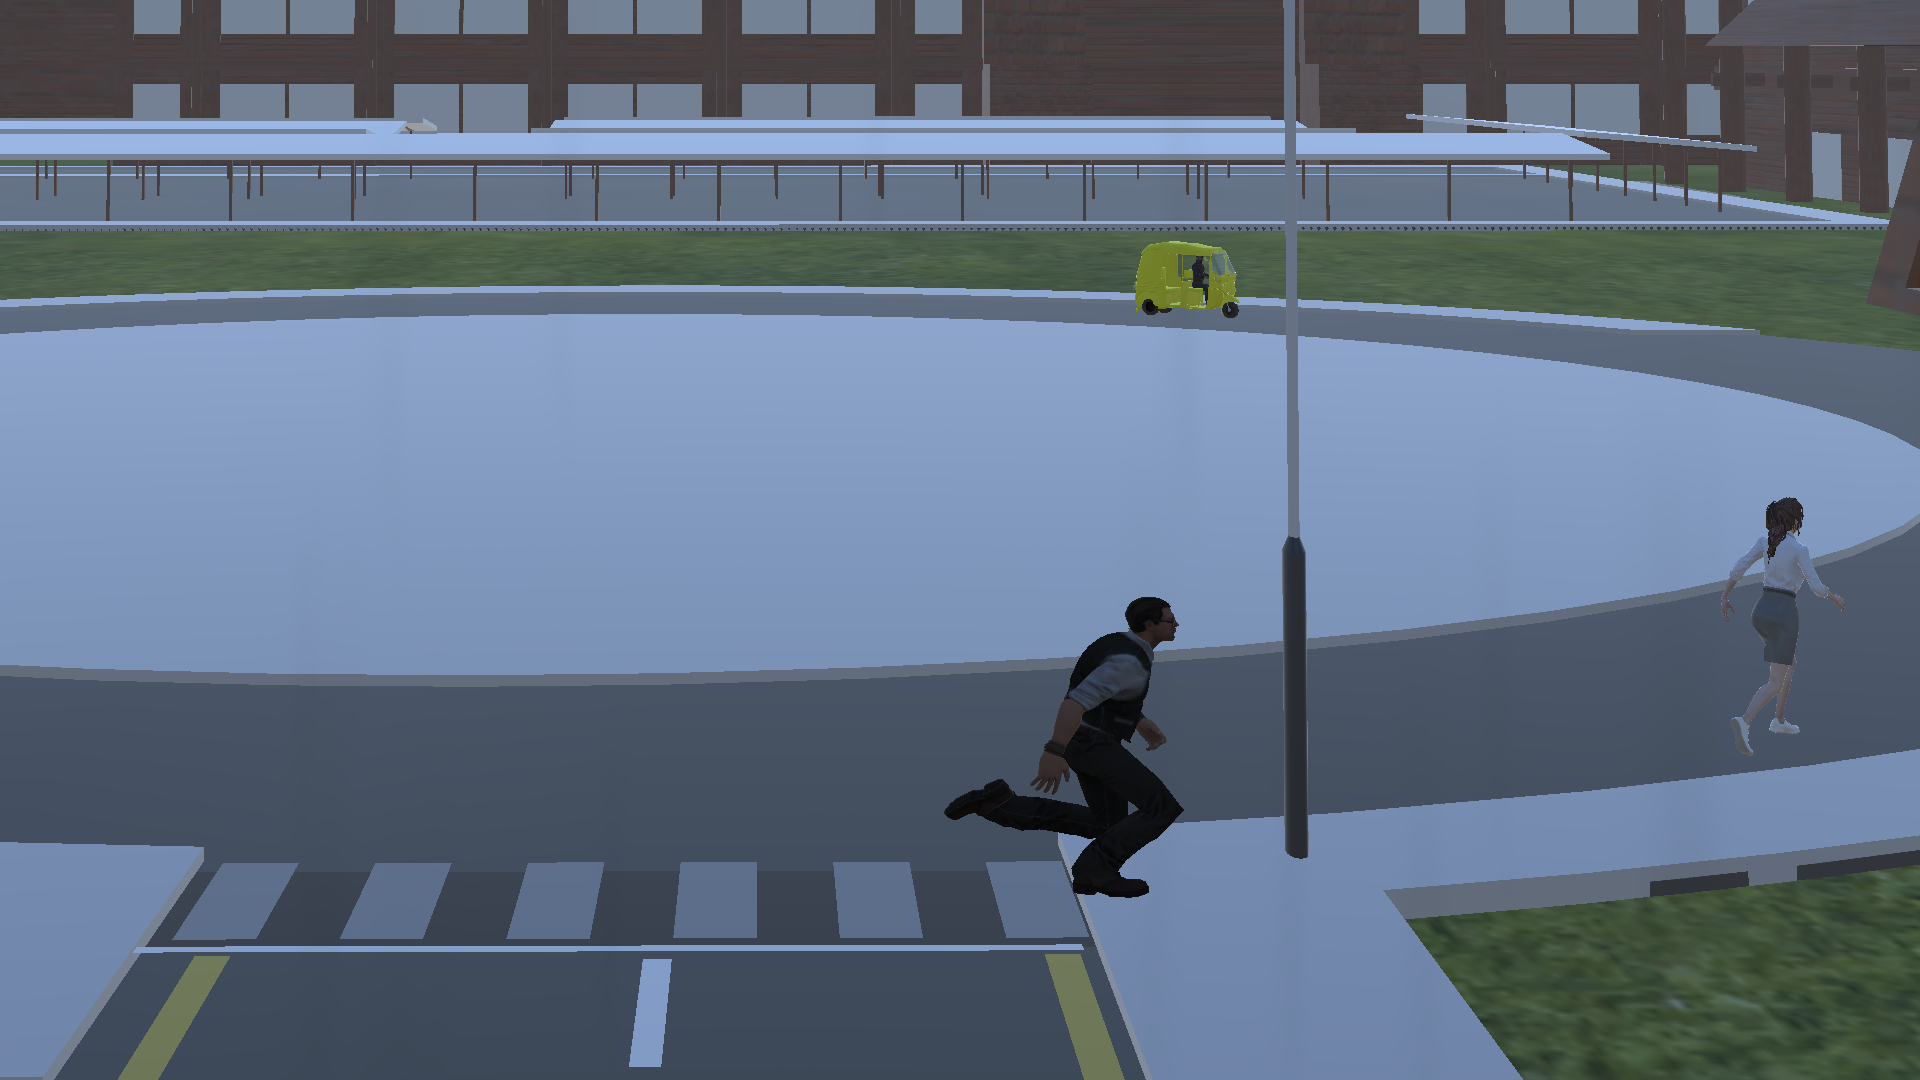pedestrian: (941, 588, 1184, 921), (1717, 488, 1844, 762)
